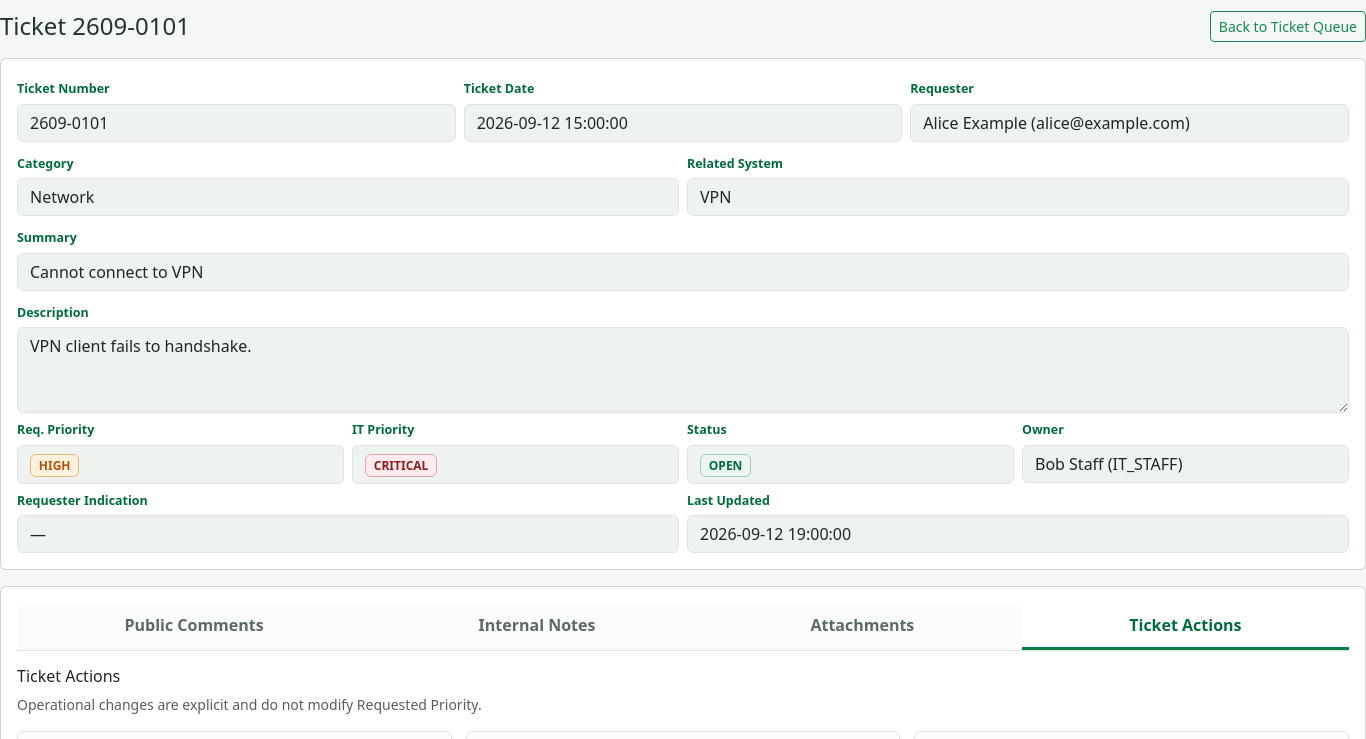
TicketCommunication (Lab 3 Issue #49, UI-09) › staff Public Comments tab shows the timeline and compact 200-char composer
Check: the heading "Ticket 2609-0101" is shown, box left=0, top=12, right=190, bottom=41
Click the tab "Public Comments" at (194, 627), box left=17, top=603, right=371, bottom=650
(page scrolled)
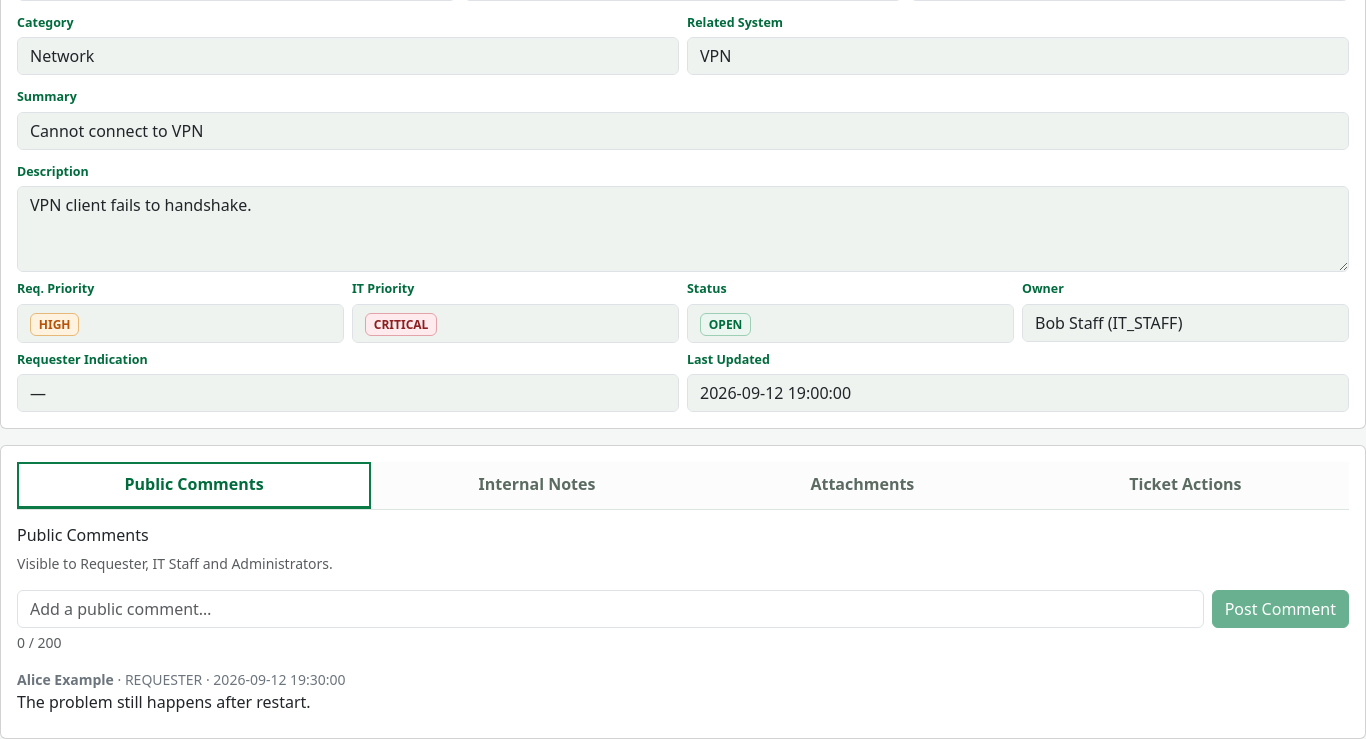
Check: the text "Visible to Requester, IT Staff and Administrators." is shown, box left=17, top=554, right=333, bottom=574
Check: the text "The problem still happens after restart." is shown, box left=17, top=692, right=311, bottom=714
Check: the text "Alice Example" is shown, box left=17, top=670, right=114, bottom=690
Type "Checking again." into the field with placeholder "Add a public comment…" at (610, 610), box left=17, top=590, right=1204, bottom=628
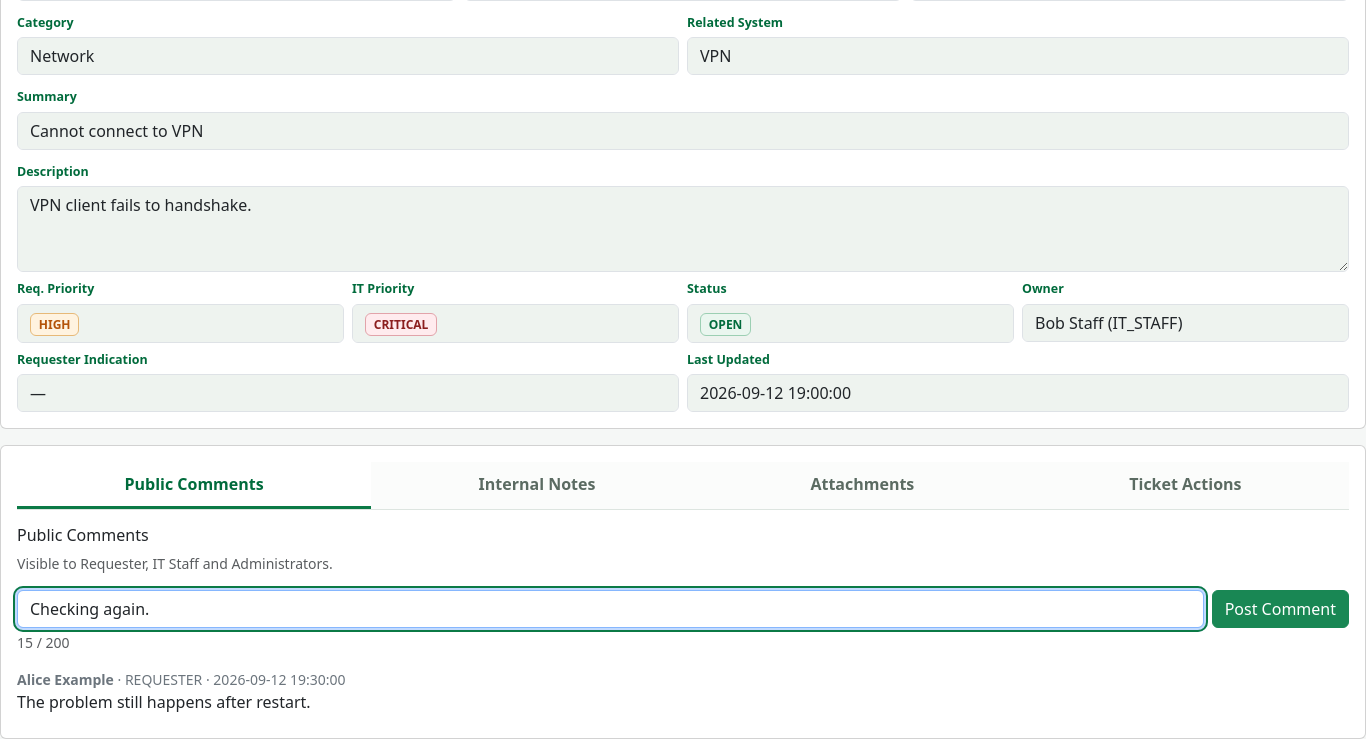
Check: the text "15 / 200" is shown, box left=17, top=634, right=70, bottom=652
